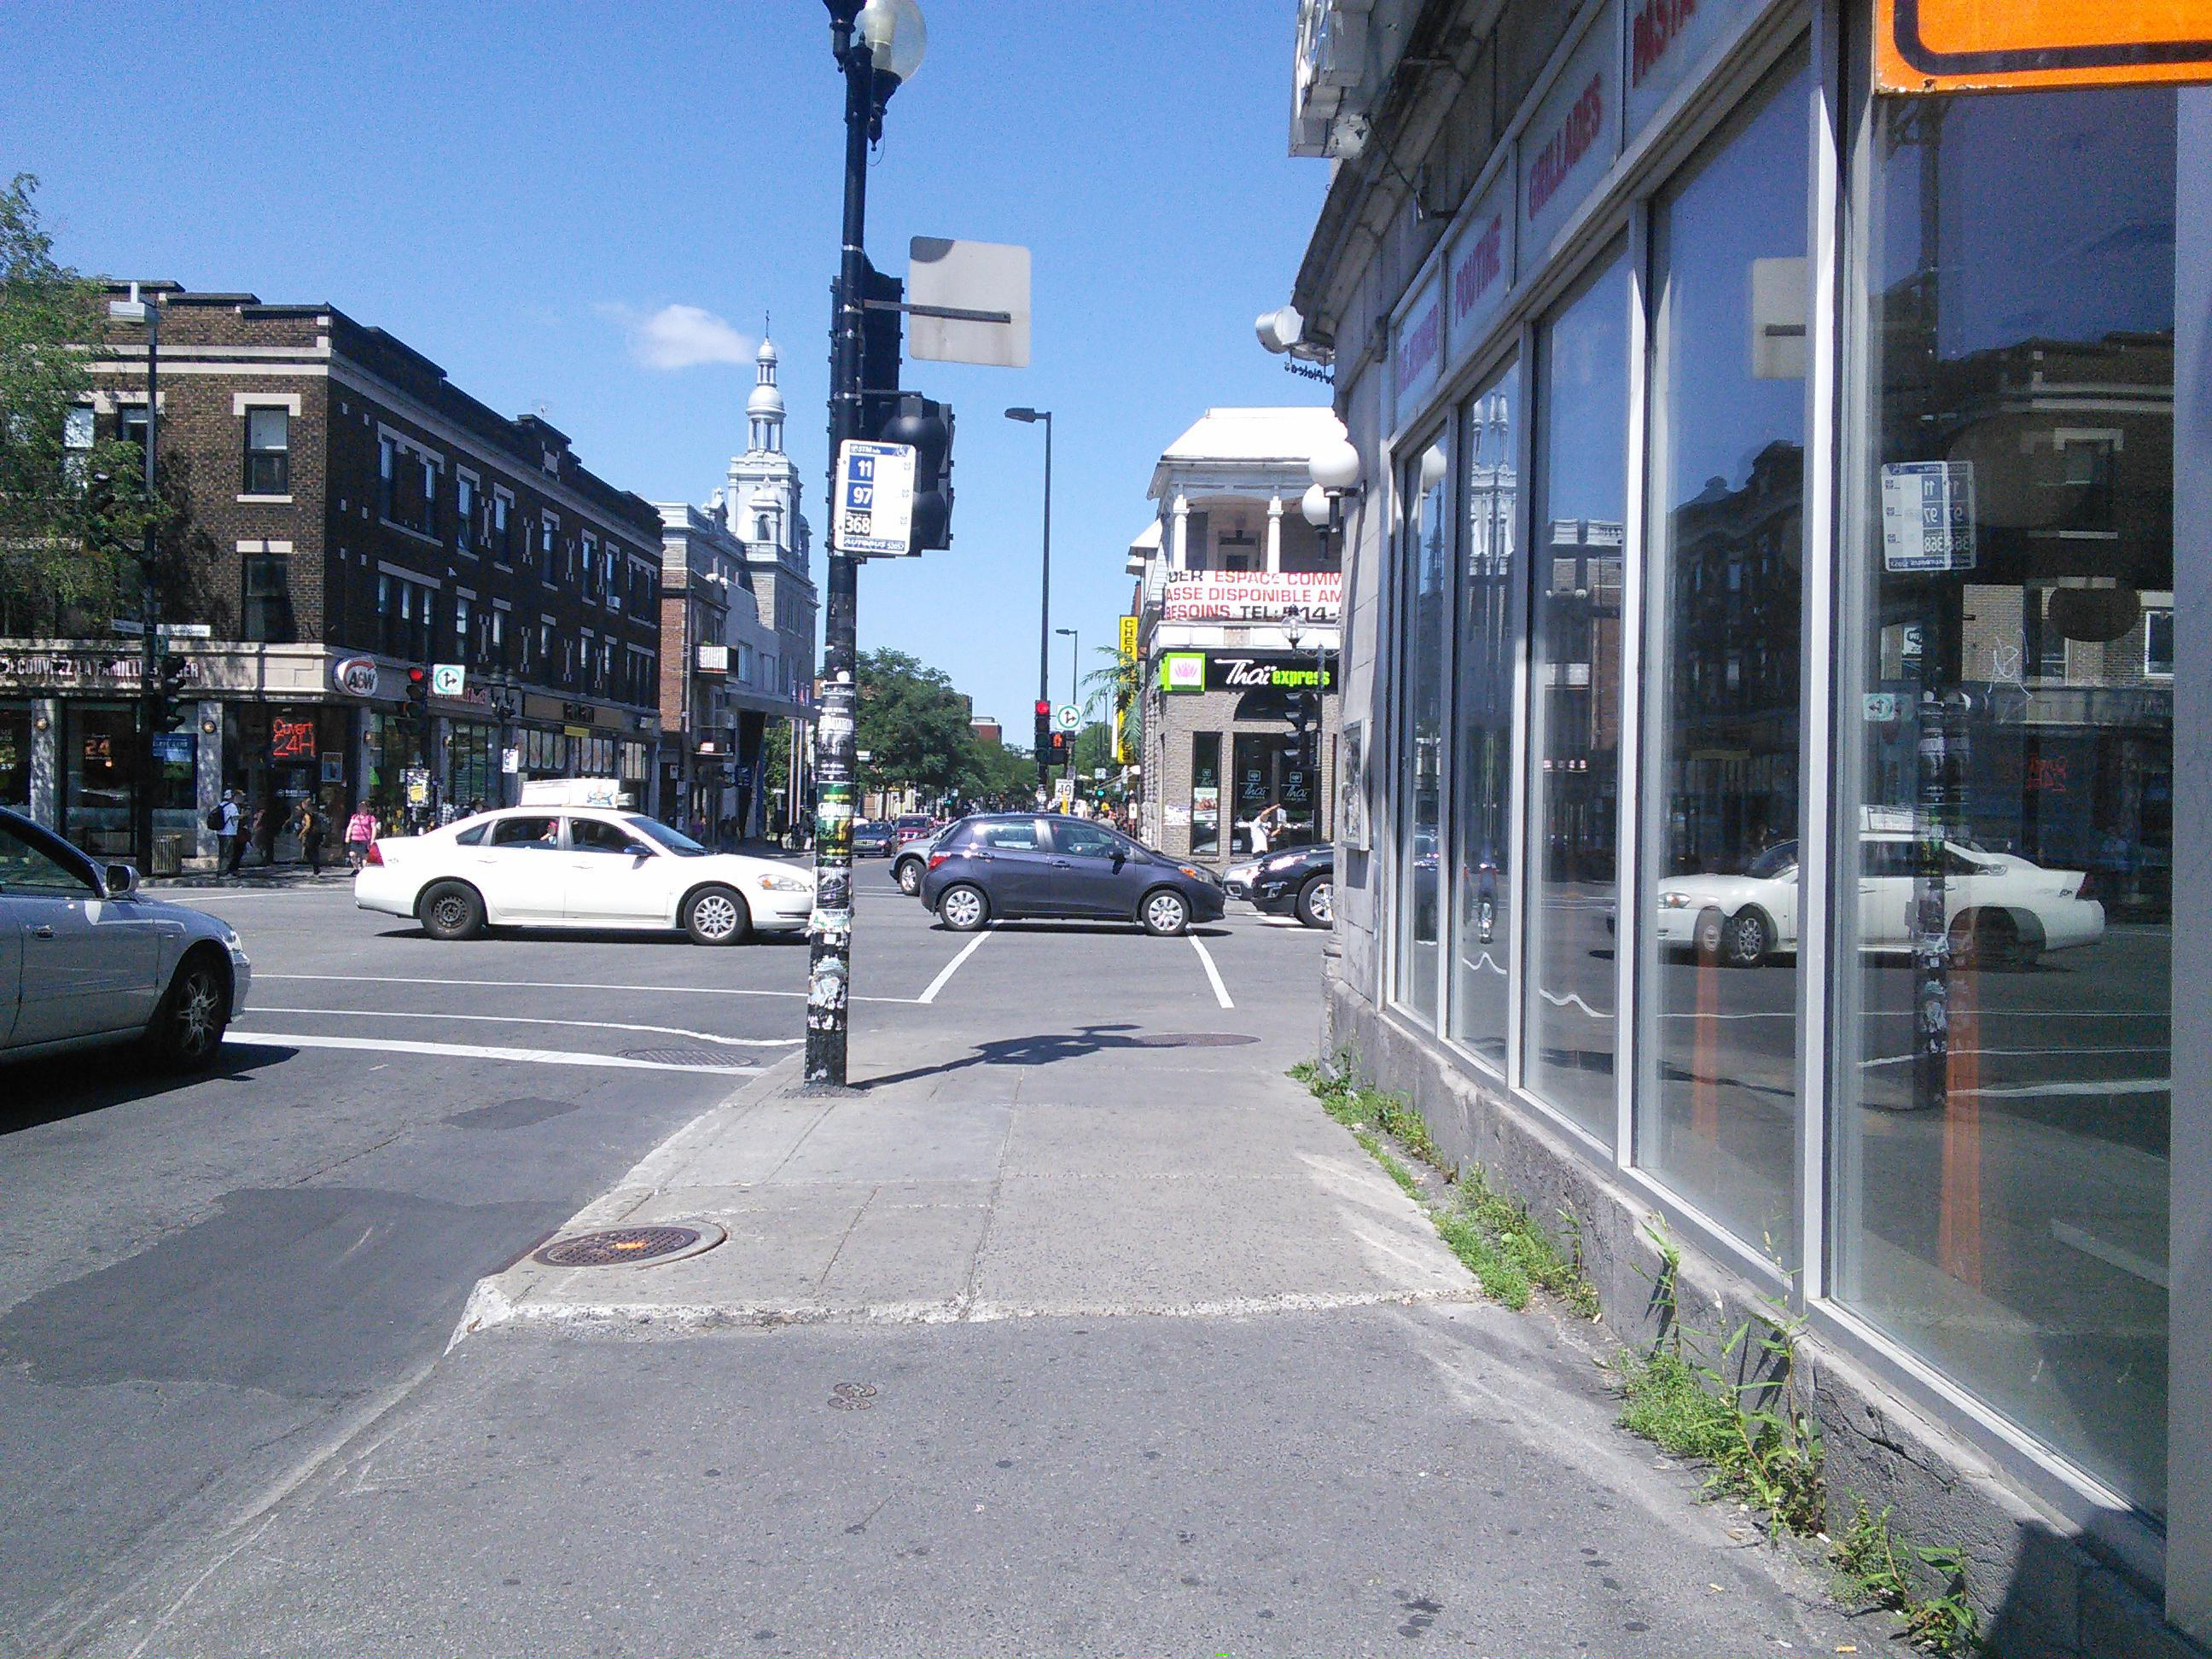vinyl banner: (1151, 545, 1348, 633)
